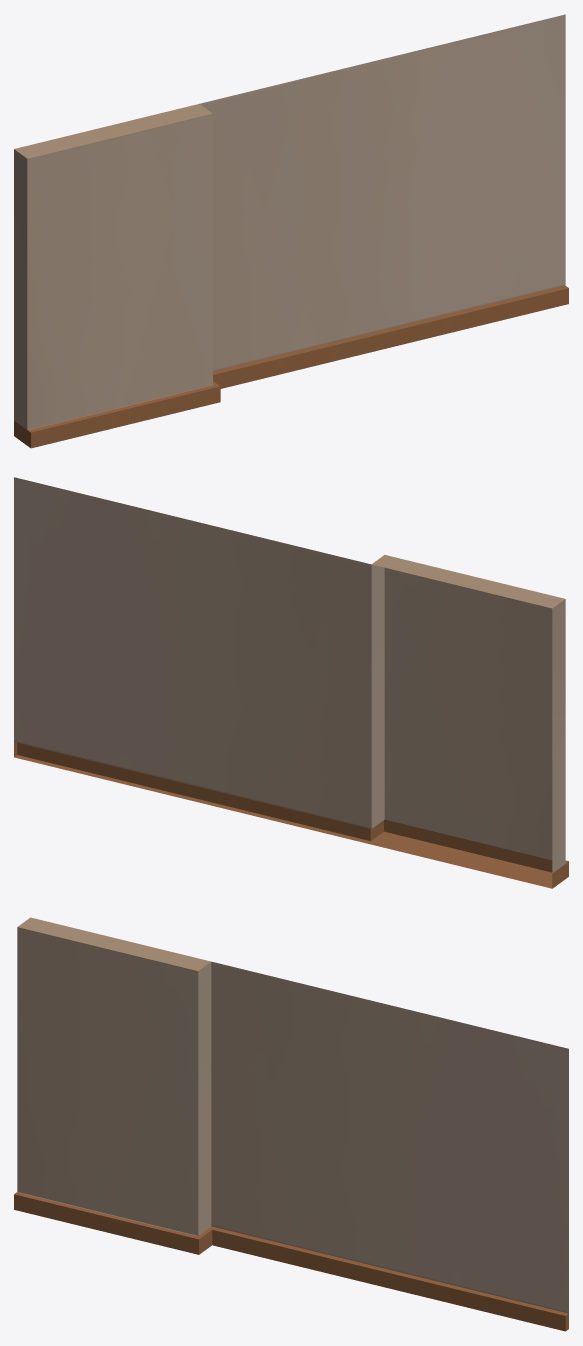
The model's file is Wall.fbx.
The picture shows the model from 3 angles, top to bottom: view 1: azimuth 30°, elevation 25°; view 2: azimuth 150°, elevation 25°; view 3: azimuth 330°, elevation 25°; orthographic projection. The views are drawn at different scales.
Parts seen in each view (by area): view 1: Plane; view 2: Plane; view 3: Plane.
Part boxes in pixels (<box>): Plane: <box>14,14,568,448</box>; Plane: <box>14,477,568,888</box>; Plane: <box>14,917,568,1331</box>.
Bounding box in the file's own units: 3324 × 1653 × 177.
